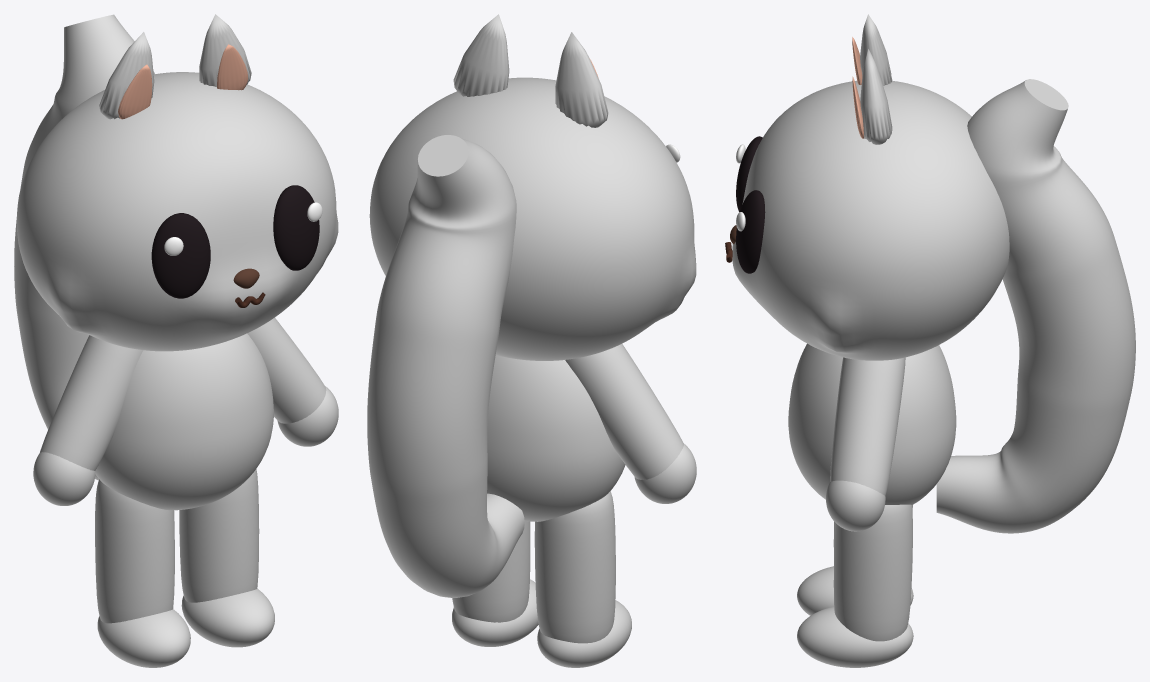
The model's file is villager_squirrel.glb.
The picture shows the model from 3 angles, left to right: view 1: azimuth 30°, elevation 25°; view 2: azimuth 150°, elevation 25°; view 3: azimuth 270°, elevation 25°; orthographic projection. The views are drawn at different scales.
Parts seen in each view (by area): view 1: head, torso, legL, legR, tail, armL, armR, eyeL, eyeR, earL, earR, earInL (+1 smaller); view 2: tail, head, torso, legL, armL, legR, earL, earR; view 3: head, tail, torso, legR, armR, earR, eyeR, legL, earL, eyeL.
Boxes of the visible parts, bbox=[...] form: head: bbox=[16, 72, 338, 351]; torso: bbox=[95, 333, 273, 510]; legL: bbox=[95, 479, 190, 667]; legR: bbox=[179, 469, 274, 647]; tail: bbox=[14, 14, 154, 480]; armL: bbox=[33, 335, 142, 505]; armR: bbox=[247, 317, 338, 446]; eyeL: bbox=[151, 213, 210, 298]; eyeR: bbox=[273, 185, 319, 270]; earL: bbox=[99, 32, 154, 119]; earR: bbox=[199, 14, 251, 86]; earInL: bbox=[118, 64, 152, 119]; tail: bbox=[367, 135, 524, 597]; head: bbox=[369, 77, 696, 360]; torso: bbox=[487, 355, 625, 521]; legL: bbox=[534, 491, 631, 667]; armL: bbox=[565, 344, 696, 503]; legR: bbox=[452, 521, 538, 646]; earL: bbox=[555, 32, 608, 127]; earR: bbox=[453, 14, 509, 96]; head: bbox=[732, 80, 1009, 360]; tail: bbox=[936, 79, 1135, 533]; torso: bbox=[788, 343, 956, 504]; legR: bbox=[797, 504, 913, 667]; armR: bbox=[826, 357, 905, 531]; earR: bbox=[860, 49, 892, 144]; eyeR: bbox=[736, 190, 765, 273]; legL: bbox=[797, 505, 913, 615]; earL: bbox=[860, 14, 892, 85]; eyeL: bbox=[736, 136, 762, 212].
Size of what is drawn, in the model's own units: 0.7068 by 1.41 by 0.8587.
